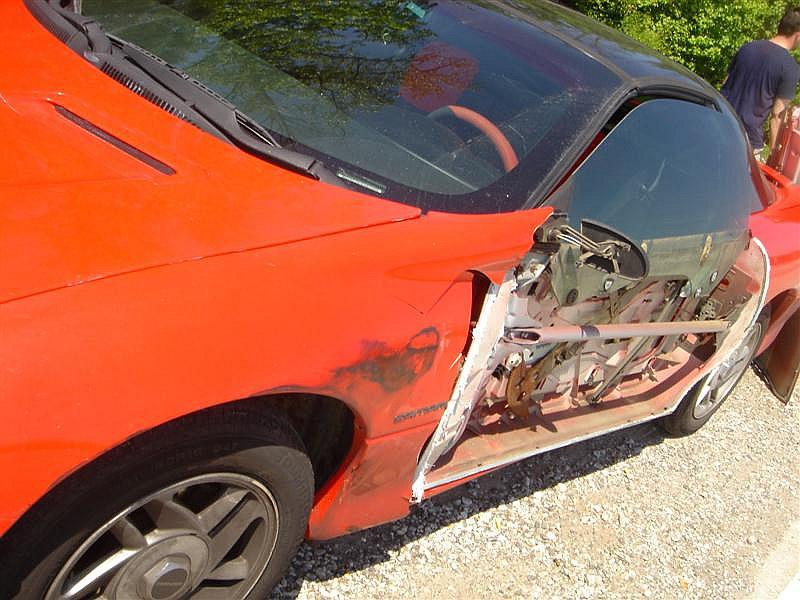fender-dent: (366, 211, 526, 516)
